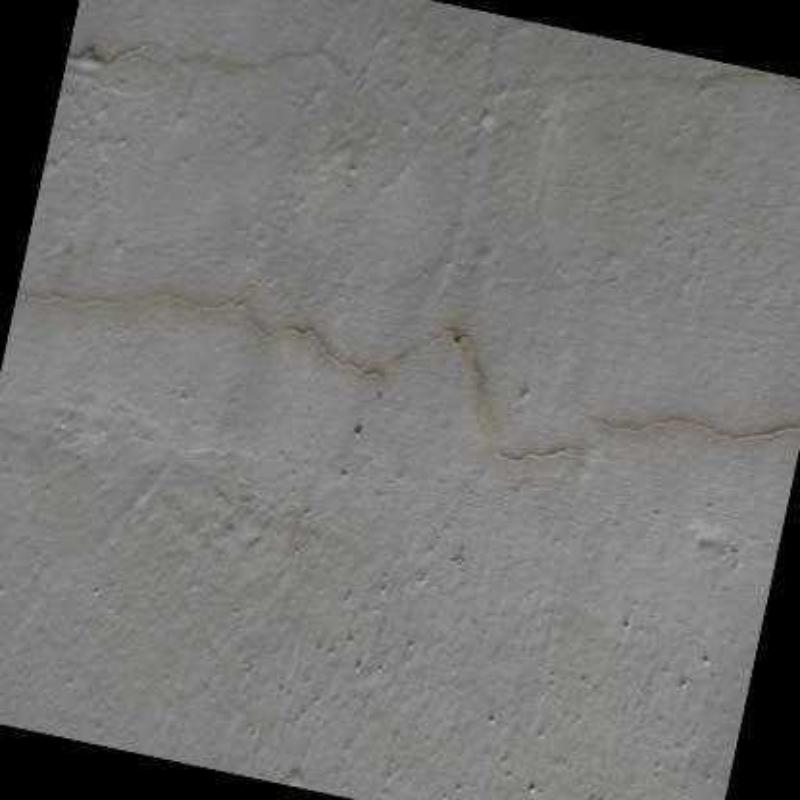crack: (20, 282, 363, 380), (396, 325, 568, 469), (593, 411, 798, 443), (66, 36, 136, 74)
